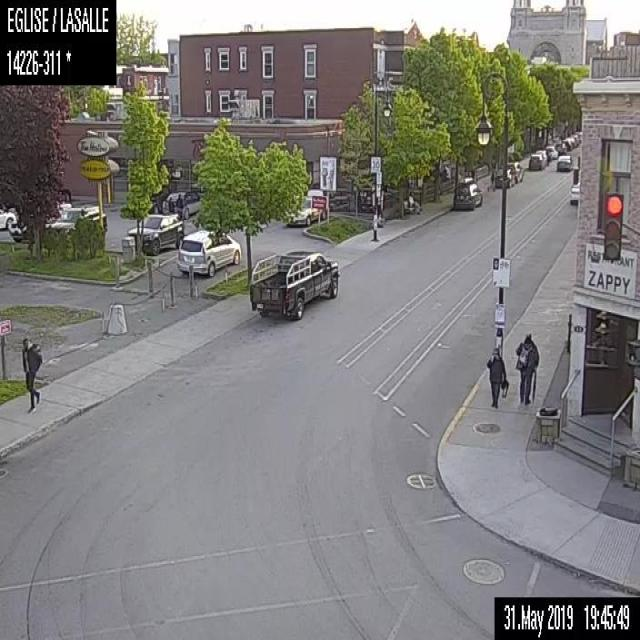pedestrian: (515, 332, 538, 405), (21, 336, 42, 412), (486, 346, 508, 406), (406, 189, 420, 215), (486, 165, 496, 191), (175, 192, 183, 218), (168, 196, 174, 214)
vehicle: (248, 248, 338, 321), (174, 228, 240, 278), (124, 212, 184, 249), (46, 204, 106, 228), (283, 195, 326, 226), (450, 179, 483, 209), (163, 189, 199, 216), (8, 217, 34, 242), (148, 184, 170, 213), (494, 163, 515, 186), (0, 207, 15, 229), (556, 153, 575, 170), (508, 161, 523, 182), (526, 153, 543, 170), (568, 181, 579, 203), (535, 149, 548, 166), (544, 144, 557, 158), (555, 142, 567, 154), (561, 138, 572, 149)
